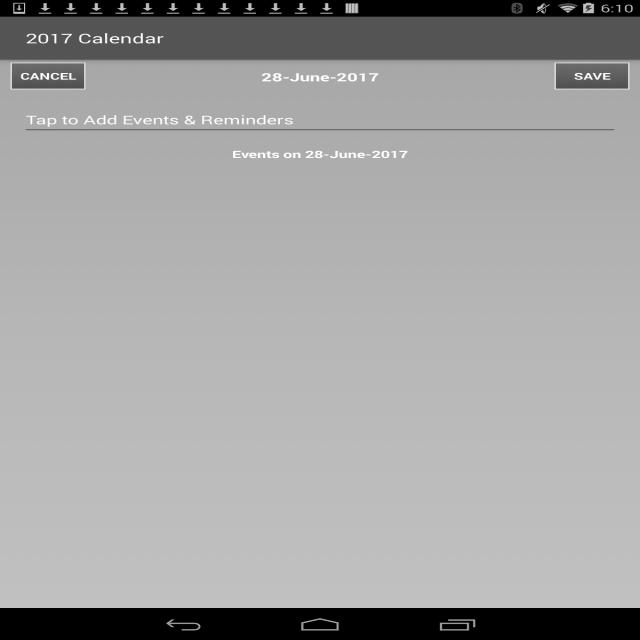Button: (3, 58, 104, 92), (543, 61, 637, 92)
EditText: (20, 106, 619, 137)
TextView: (239, 62, 414, 85), (216, 144, 430, 161), (22, 27, 173, 46)
